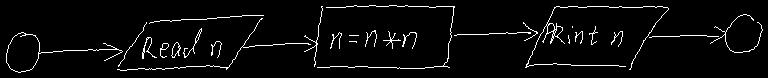arrow: (454, 22, 537, 40), (38, 43, 122, 60), (649, 26, 725, 43), (243, 35, 317, 51)
connection: (725, 14, 762, 52), (6, 32, 39, 72)
data: (525, 6, 668, 69), (117, 15, 263, 70)
process: (314, 5, 454, 68)
text: (142, 28, 221, 58), (542, 23, 622, 46), (330, 30, 416, 48)
